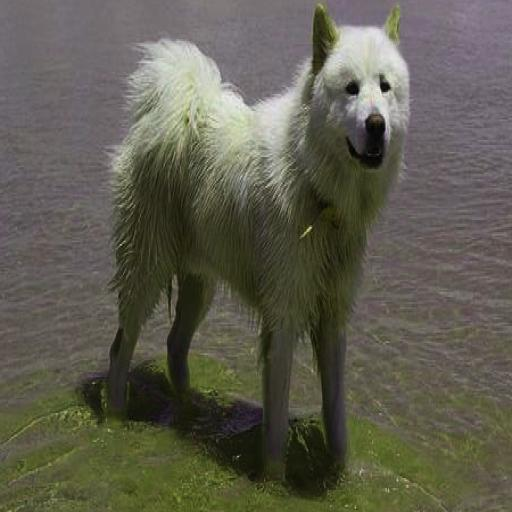dog_face: (308, 1, 405, 178)
